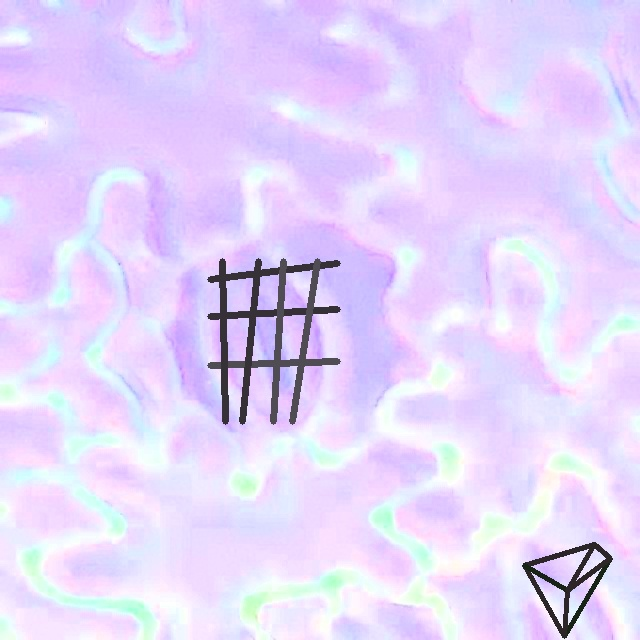close: (522, 542, 612, 638)
open: (207, 258, 340, 424)
